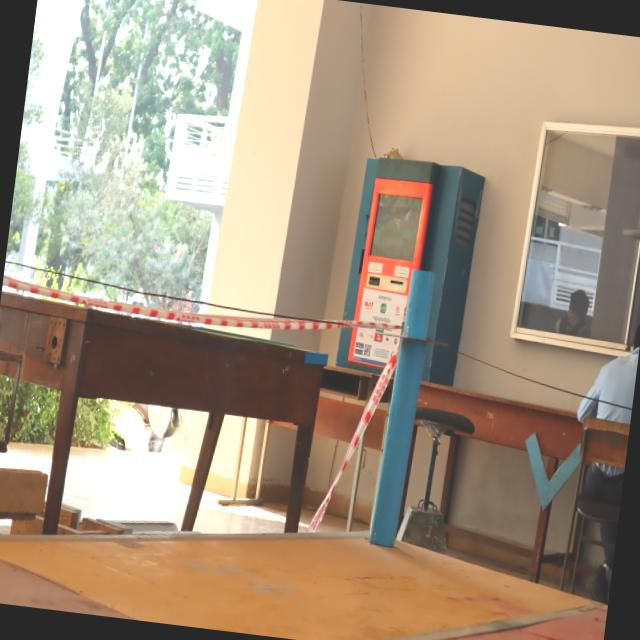pole: (368, 261, 459, 403)
